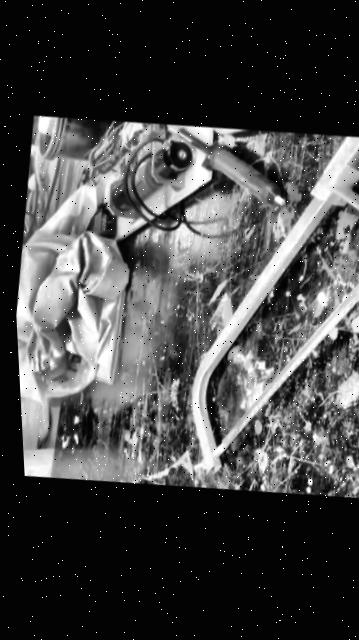pot: (35, 111, 116, 172)
